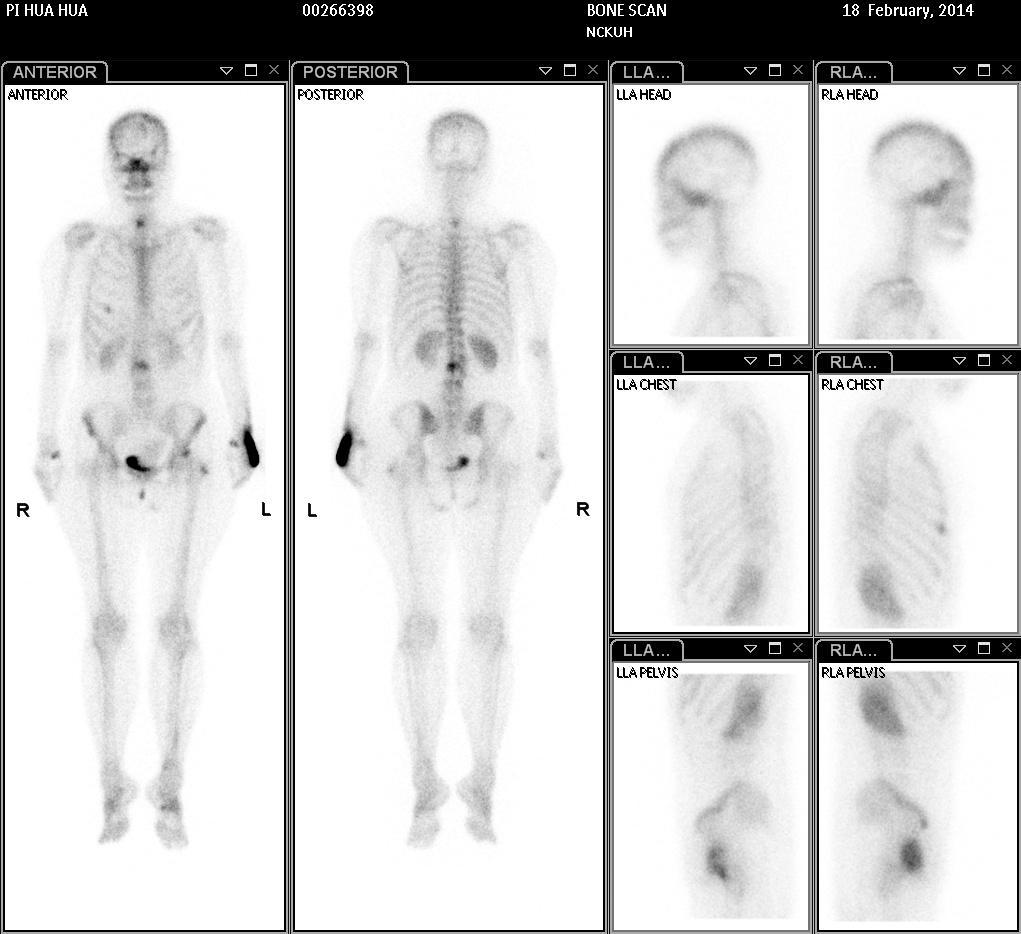person: (3, 83, 607, 933)
